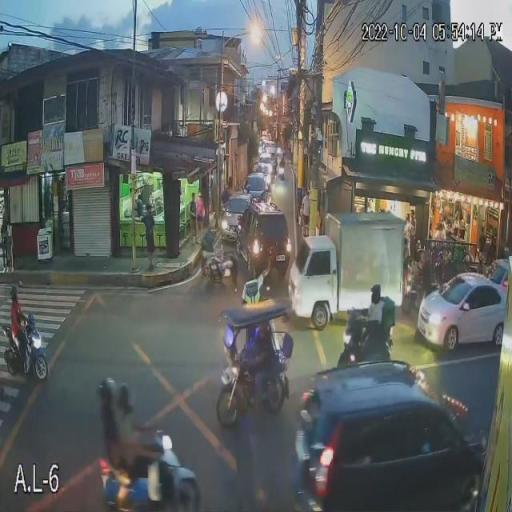helmet: (98, 378, 114, 410), (118, 384, 134, 415), (5, 284, 21, 300), (370, 284, 382, 304)
motorcycle: (97, 426, 202, 512), (336, 306, 394, 370), (0, 309, 50, 380), (201, 246, 220, 291)
rider: (123, 381, 160, 510), (97, 376, 122, 506), (354, 283, 388, 361), (8, 286, 31, 356), (202, 227, 218, 263)
